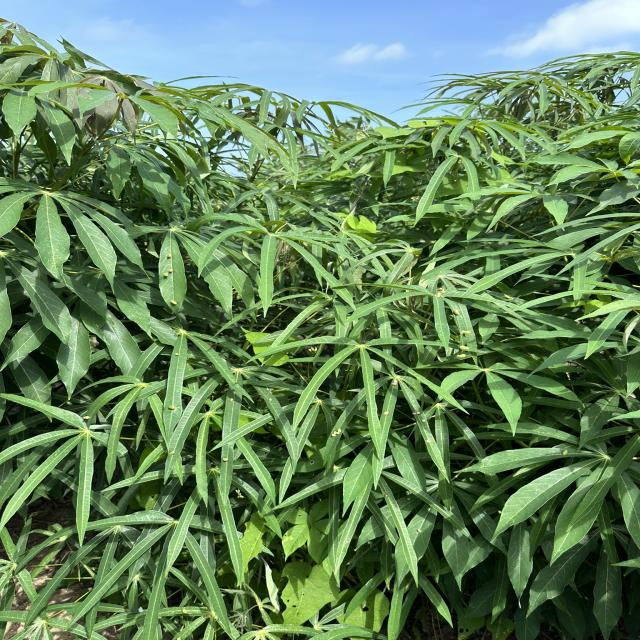Maleza: (259, 560, 340, 628), (269, 497, 333, 562)
Mosca: (455, 328, 474, 363), (158, 391, 180, 416), (156, 288, 179, 311), (412, 406, 433, 428), (217, 451, 237, 471), (327, 421, 344, 443), (551, 446, 575, 461), (158, 264, 177, 281), (165, 349, 187, 363), (445, 305, 463, 321), (74, 414, 93, 429), (377, 408, 395, 423), (264, 394, 279, 409), (164, 250, 177, 264)
